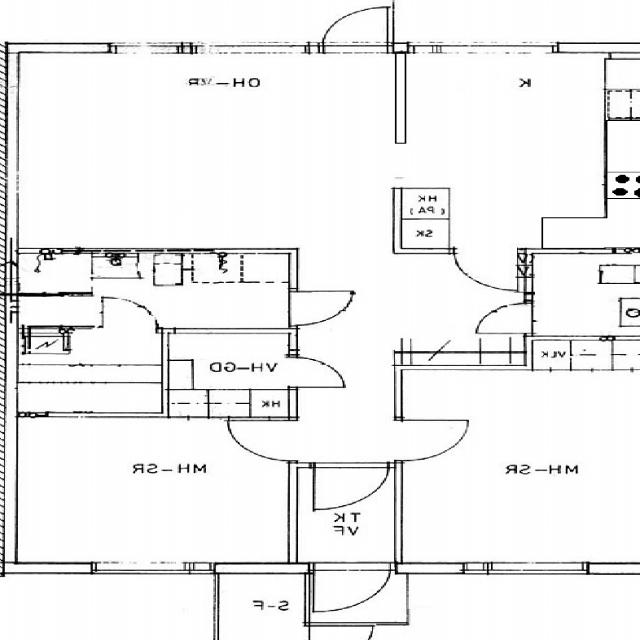door: (314, 562, 390, 616), (314, 462, 388, 512), (394, 420, 469, 461), (324, 6, 388, 53), (223, 421, 298, 461), (454, 248, 517, 292), (289, 291, 353, 325), (104, 296, 157, 332), (476, 303, 532, 333), (289, 358, 346, 387), (306, 626, 374, 640)
